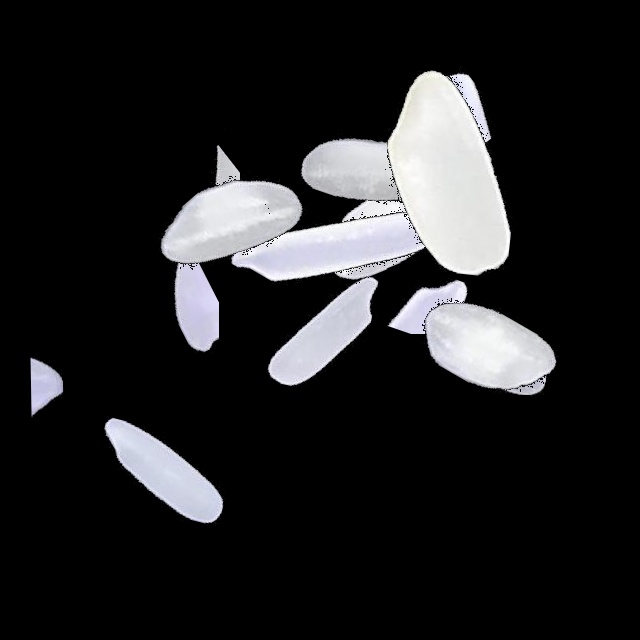Broken: (280, 176, 530, 348), (94, 192, 219, 442), (134, 67, 240, 317), (311, 65, 561, 167), (30, 259, 126, 509), (71, 122, 321, 214), (293, 245, 543, 334)
Full: (196, 205, 446, 455), (374, 224, 624, 474), (359, 224, 609, 474), (217, 115, 467, 365), (102, 98, 352, 348), (247, 45, 497, 295), (324, 46, 574, 296), (39, 345, 289, 595)
